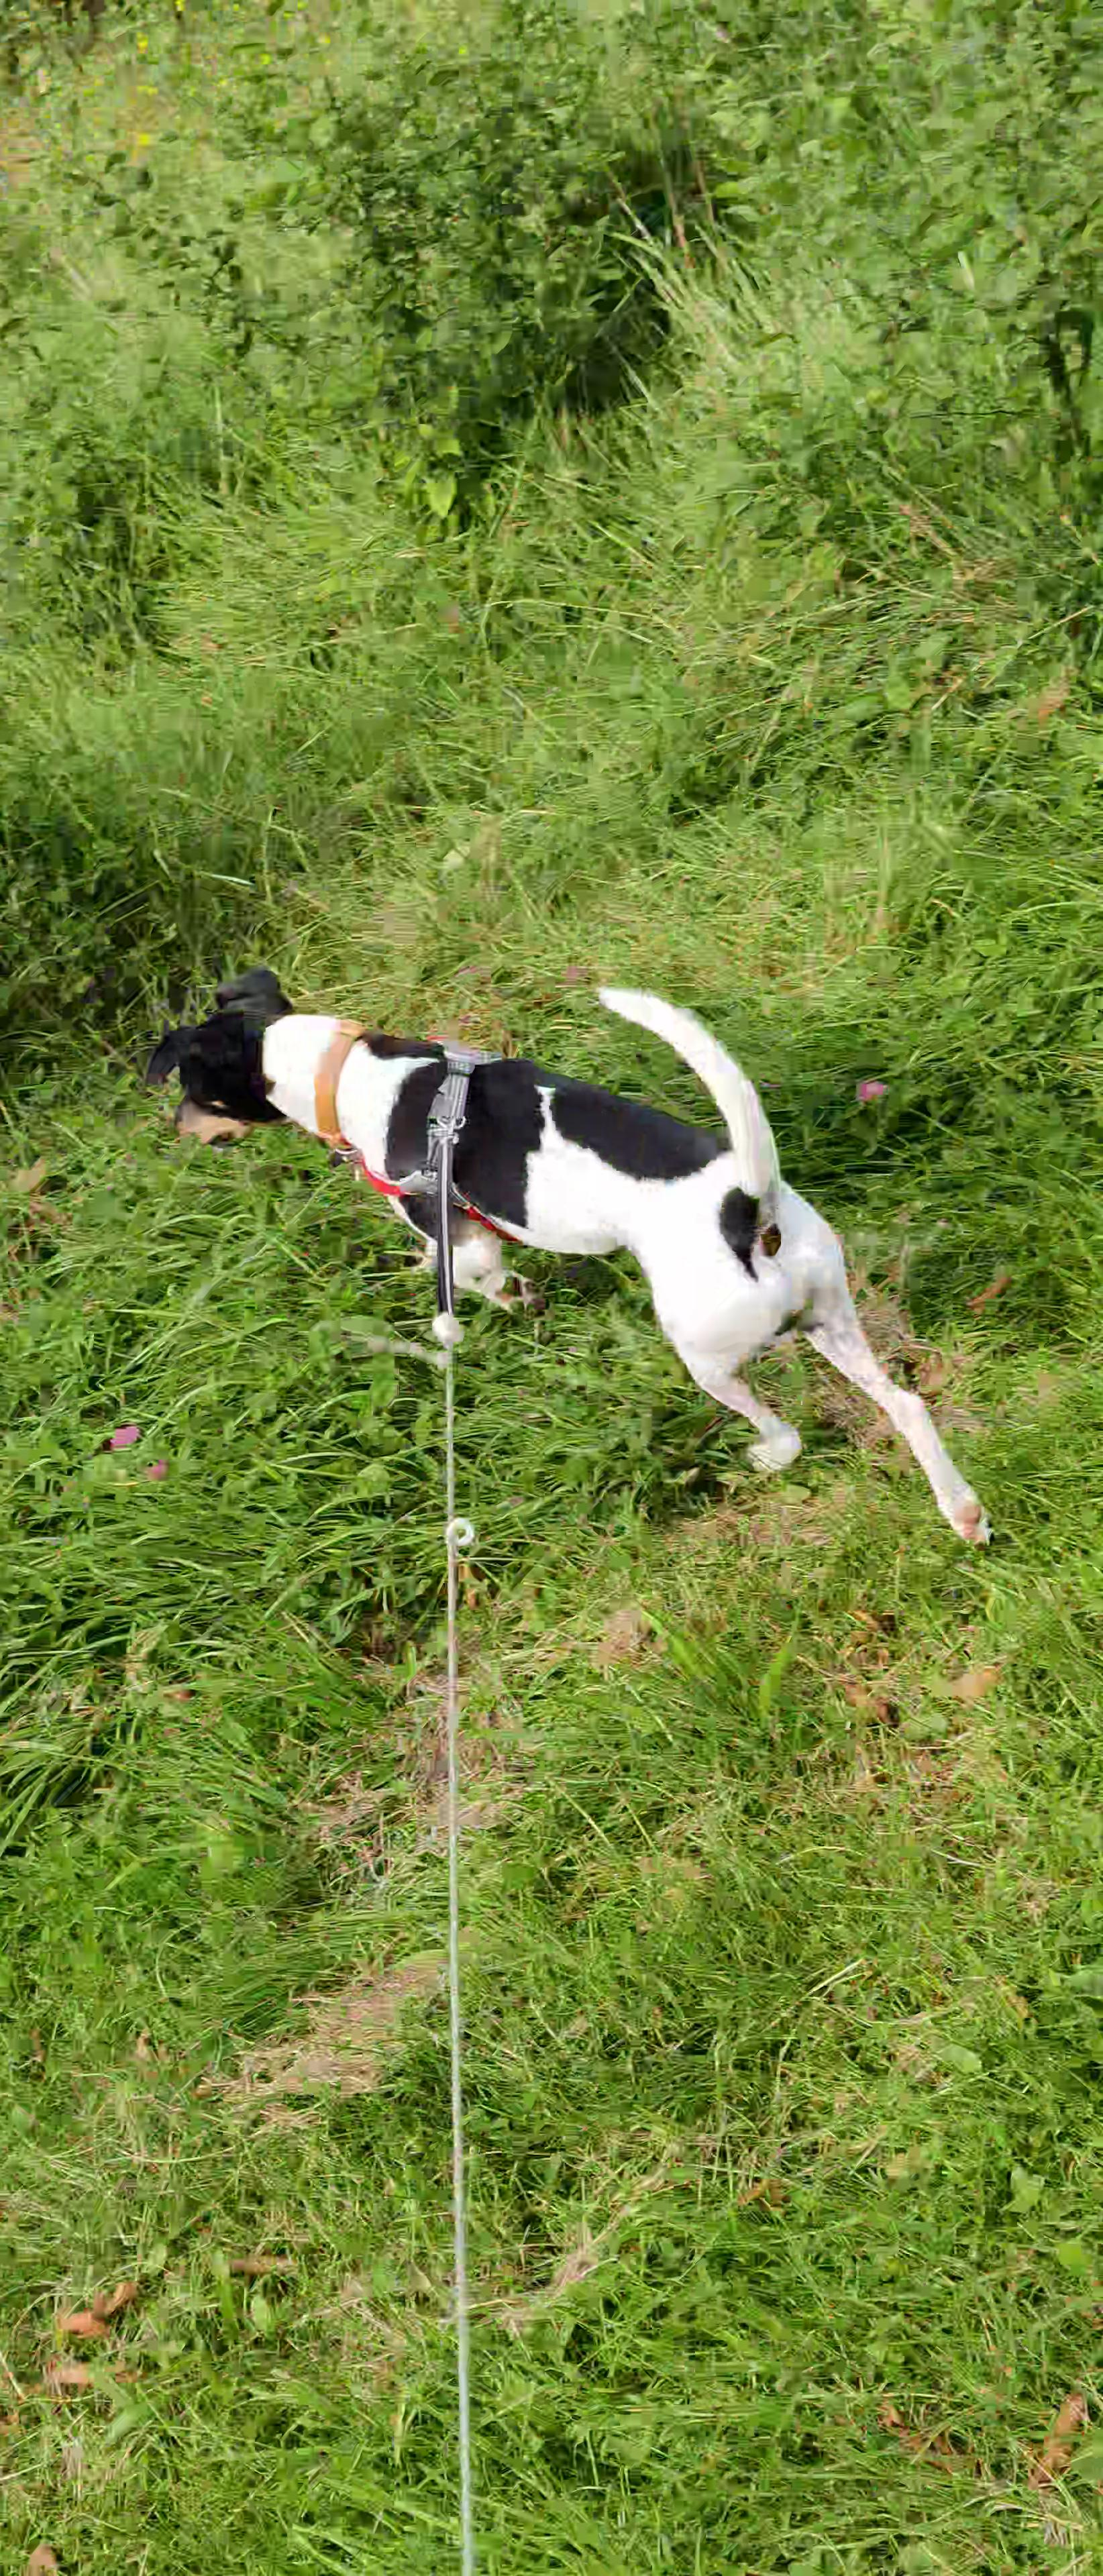Dog: (115, 941, 1011, 1561)
